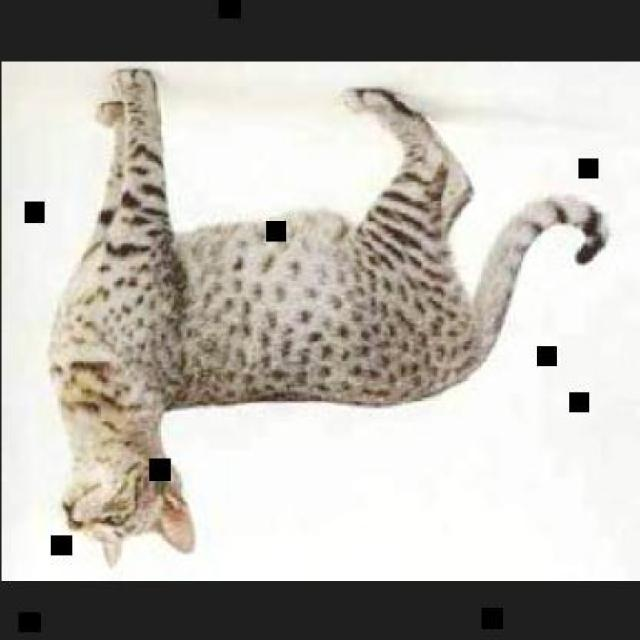unauthorized: (45, 64, 608, 564)
